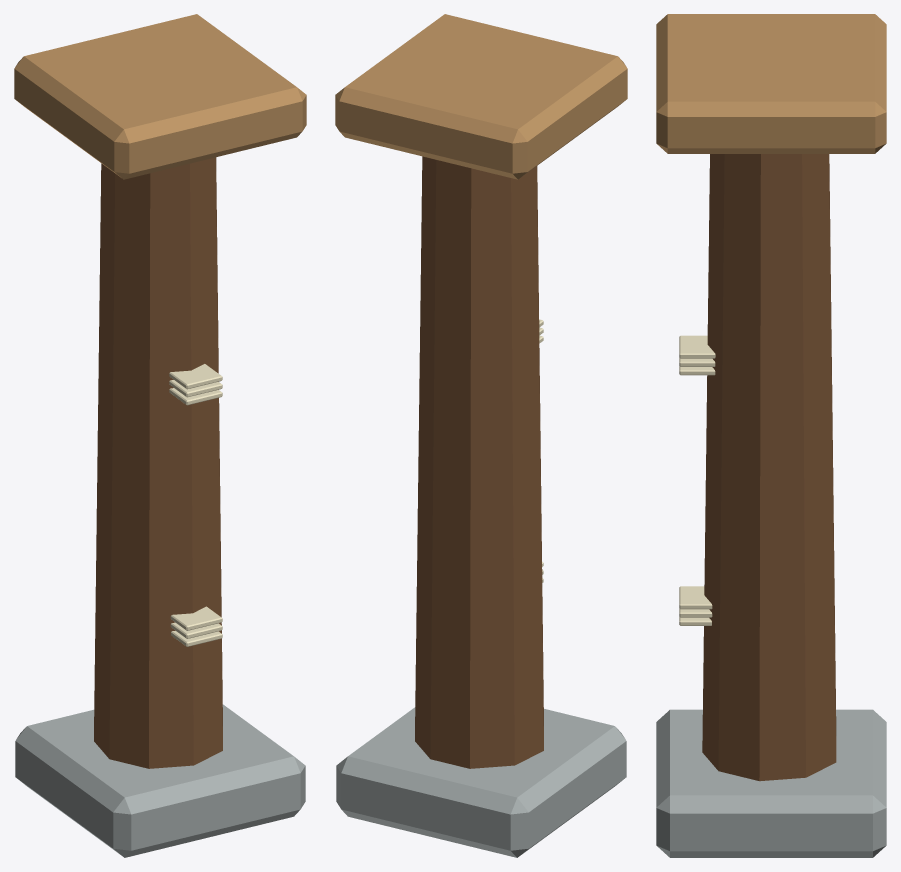
Rendered from CC_Pillar.fbx.
3 views of the same model, side by side, from view 1: azimuth 30°, elevation 25°; view 2: azimuth 150°, elevation 25°; view 3: azimuth 270°, elevation 25° (orthographic). The views are drawn at different scales.
Visible parts, largest first — view 1: Shaft, Capital, Plinth, Fiber binding.029, Fiber binding.026; view 2: Shaft, Capital, Plinth; view 3: Shaft, Capital, Plinth, Fiber binding.029, Fiber binding.026.
Boxes of the visible parts, x1,y1,x2,y2 form: Shaft: (94, 157, 222, 768); Capital: (14, 14, 306, 179); Plinth: (15, 704, 305, 857); Fiber binding.029: (169, 364, 222, 389); Fiber binding.026: (170, 606, 222, 630); Shaft: (415, 156, 543, 768); Capital: (335, 14, 627, 179); Plinth: (336, 707, 626, 857); Shaft: (702, 154, 836, 781); Capital: (656, 14, 886, 153); Plinth: (656, 709, 886, 857); Fiber binding.029: (679, 335, 715, 358); Fiber binding.026: (679, 586, 712, 609).
Bounding box in the file's own units: 1 × 3.63 × 1.
